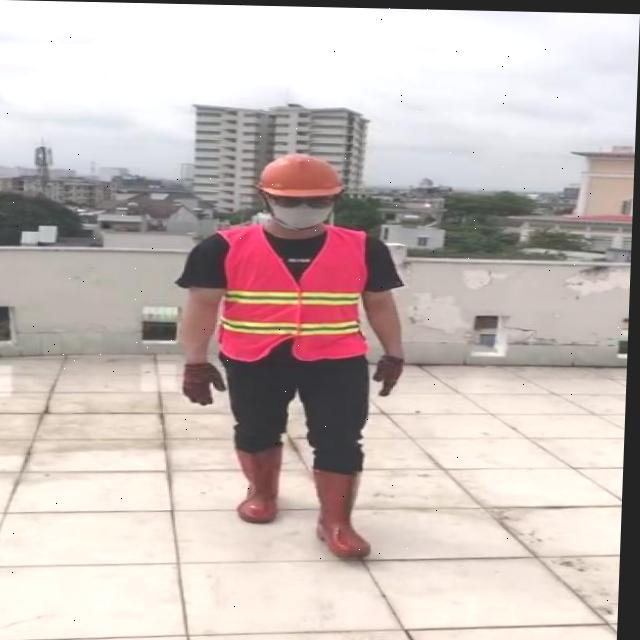Gloves: (184, 360, 229, 404), (374, 352, 407, 395)
Helmet: (255, 151, 346, 229)
Safety-Boot: (313, 463, 377, 557), (236, 438, 286, 522)
Safety-Vest: (213, 218, 374, 362)
